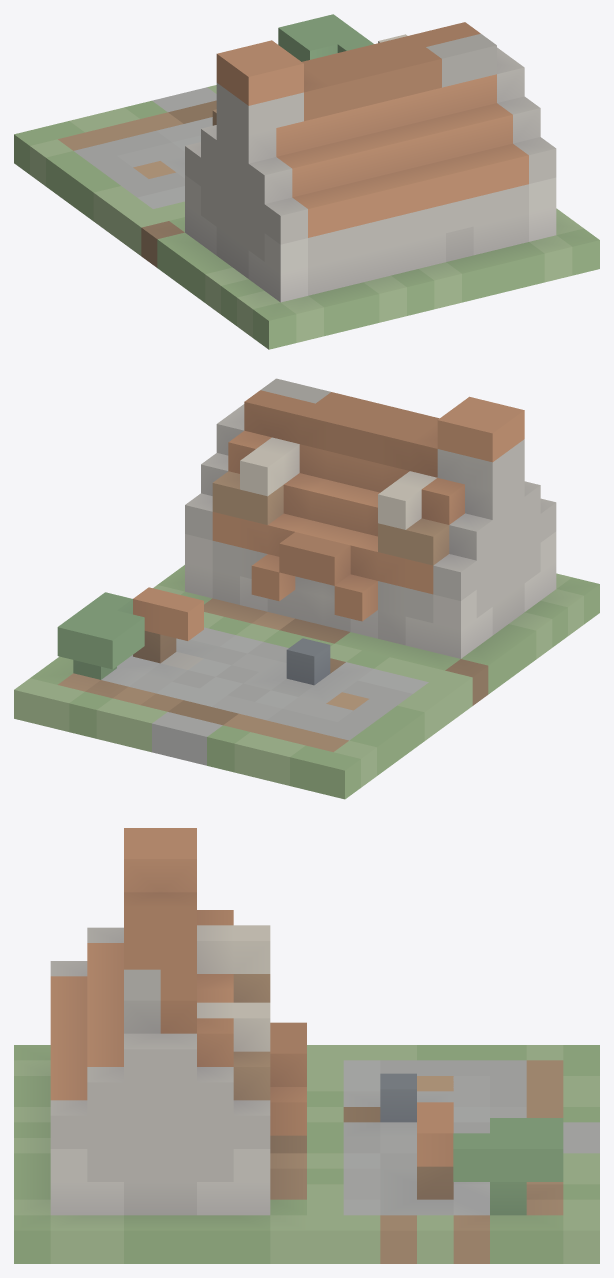
Rendered from school.lite.glb.
3 views of the same model, one above another, from view 1: azimuth 30°, elevation 25°; view 2: azimuth 150°, elevation 25°; view 3: azimuth 270°, elevation 25° (orthographic). The views are drawn at different scales.
Parts seen in each view (by area): view 1: school; view 2: school; view 3: school.
Boxes of the visible parts, x1,y1,x2,y2 form: school: [14, 14, 599, 349]; school: [14, 378, 599, 799]; school: [14, 828, 599, 1263].
Size of the model in its own units: 6 by 4 by 8.
